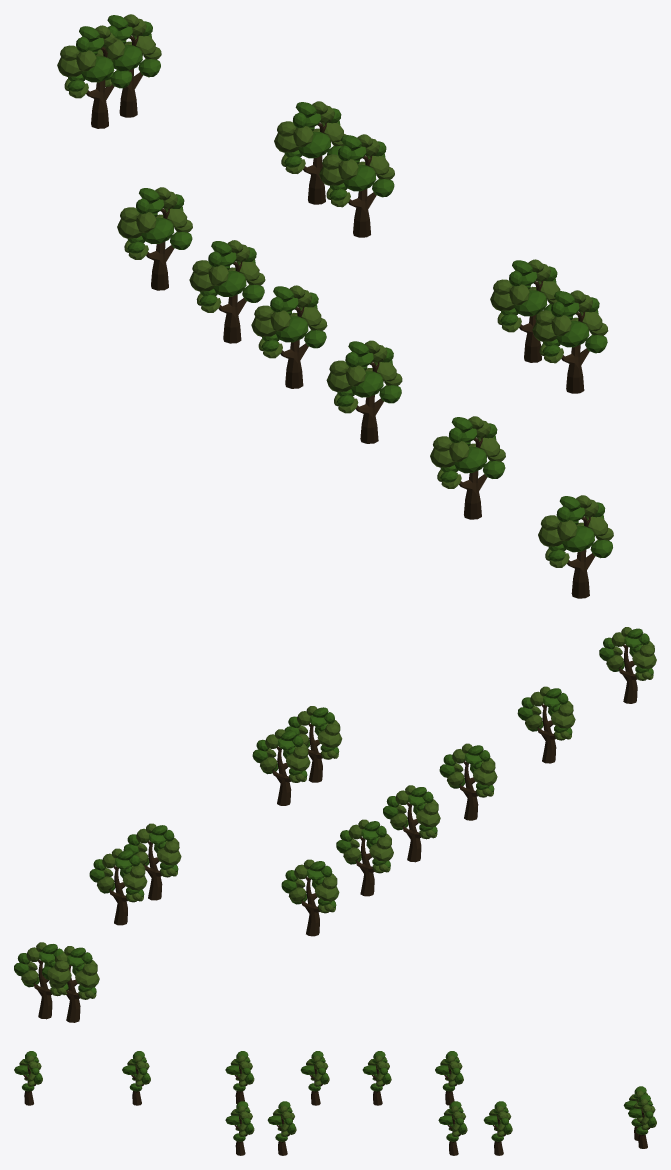
Rendered from tree3.obj.
The picture shows the model from 3 angles, top to bottom: view 1: azimuth 30°, elevation 25°; view 2: azimuth 150°, elevation 25°; view 3: azimuth 270°, elevation 25°; orthographic projection. The views are drawn at different scales.
Parts seen in each view (by area): view 1: Oak_Cylinder.019, Oak_Cylinder.016, Oak_Cylinder.015, Oak_Cylinder.013, Oak_Cylinder.020, Oak_Cylinder.017, Oak_Cylinder.021, Oak_Cylinder.018, Oak_Cylinder.012, Oak_Cylinder.010, Oak_Cylinder.014, Oak_Cylinder.011; view 2: Oak_Cylinder.020, Oak_Cylinder.012, Oak_Cylinder.017, Oak_Cylinder.018, Oak_Cylinder.019, Oak_Cylinder.016, Oak_Cylinder.021, Oak_Cylinder.014, Oak_Cylinder.013, Oak_Cylinder.011, Oak_Cylinder.015, Oak_Cylinder.010; view 3: Oak_Cylinder.018, Oak_Cylinder.017, Oak_Cylinder.012, Oak_Cylinder.014, Oak_Cylinder.013, Oak_Cylinder.015, Oak_Cylinder.019, Oak_Cylinder.020, Oak_Cylinder.021, Oak_Cylinder.011, Oak_Cylinder.016, Oak_Cylinder.010.
Part boxes in pixels (bbox=[...]): Oak_Cylinder.019: bbox=[251, 285, 327, 388]; Oak_Cylinder.016: bbox=[326, 340, 402, 443]; Oak_Cylinder.015: bbox=[532, 290, 608, 393]; Oak_Cylinder.013: bbox=[319, 134, 394, 237]; Oak_Cylinder.020: bbox=[189, 240, 265, 343]; Oak_Cylinder.017: bbox=[430, 416, 505, 519]; Oak_Cylinder.021: bbox=[117, 187, 192, 290]; Oak_Cylinder.018: bbox=[538, 495, 613, 598]; Oak_Cylinder.012: bbox=[274, 101, 346, 204]; Oak_Cylinder.010: bbox=[57, 25, 132, 128]; Oak_Cylinder.014: bbox=[490, 259, 560, 362]; Oak_Cylinder.011: bbox=[96, 14, 161, 117]; Oak_Cylinder.020: bbox=[336, 819, 393, 896]; Oak_Cylinder.012: bbox=[89, 848, 147, 925]; Oak_Cylinder.017: bbox=[517, 686, 575, 763]; Oak_Cylinder.018: bbox=[599, 627, 656, 703]; Oak_Cylinder.019: bbox=[383, 785, 440, 862]; Oak_Cylinder.016: bbox=[439, 743, 497, 820]; Oak_Cylinder.021: bbox=[281, 859, 339, 936]; Oak_Cylinder.014: bbox=[252, 729, 310, 805]; Oak_Cylinder.013: bbox=[123, 823, 181, 900]; Oak_Cylinder.011: bbox=[14, 942, 71, 1019]; Oak_Cylinder.015: bbox=[284, 706, 342, 782]; Oak_Cylinder.010: bbox=[42, 946, 99, 1022]; Oak_Cylinder.018: bbox=[14, 1051, 42, 1105]; Oak_Cylinder.017: bbox=[122, 1051, 150, 1105]; Oak_Cylinder.012: bbox=[483, 1101, 512, 1155]; Oak_Cylinder.014: bbox=[267, 1101, 296, 1155]; Oak_Cylinder.013: bbox=[438, 1101, 467, 1155]; Oak_Cylinder.015: bbox=[225, 1101, 254, 1155]; Oak_Cylinder.019: bbox=[300, 1051, 329, 1105]; Oak_Cylinder.020: bbox=[362, 1051, 391, 1105]; Oak_Cylinder.021: bbox=[435, 1051, 463, 1105]; Oak_Cylinder.011: bbox=[628, 1094, 656, 1148]; Oak_Cylinder.016: bbox=[225, 1051, 254, 1103]; Oak_Cylinder.010: bbox=[623, 1086, 647, 1140].
Size of the model in its own units: 475 by 175 by 1916.
